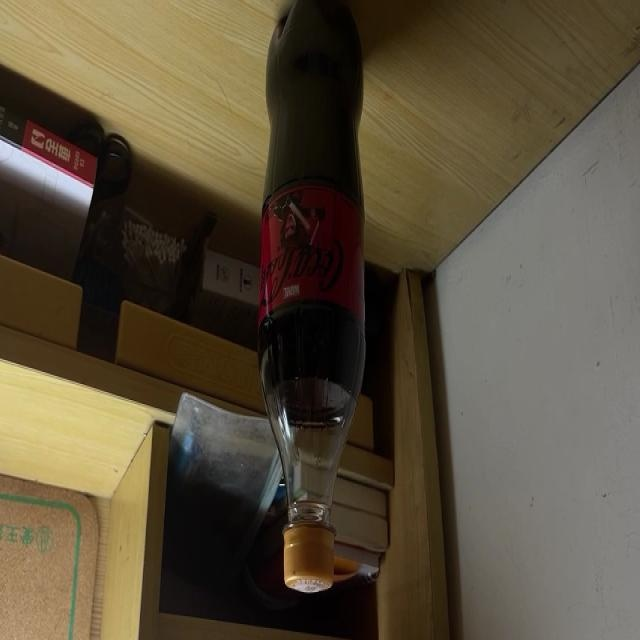Coca-Cola: (257, 5, 367, 593)
